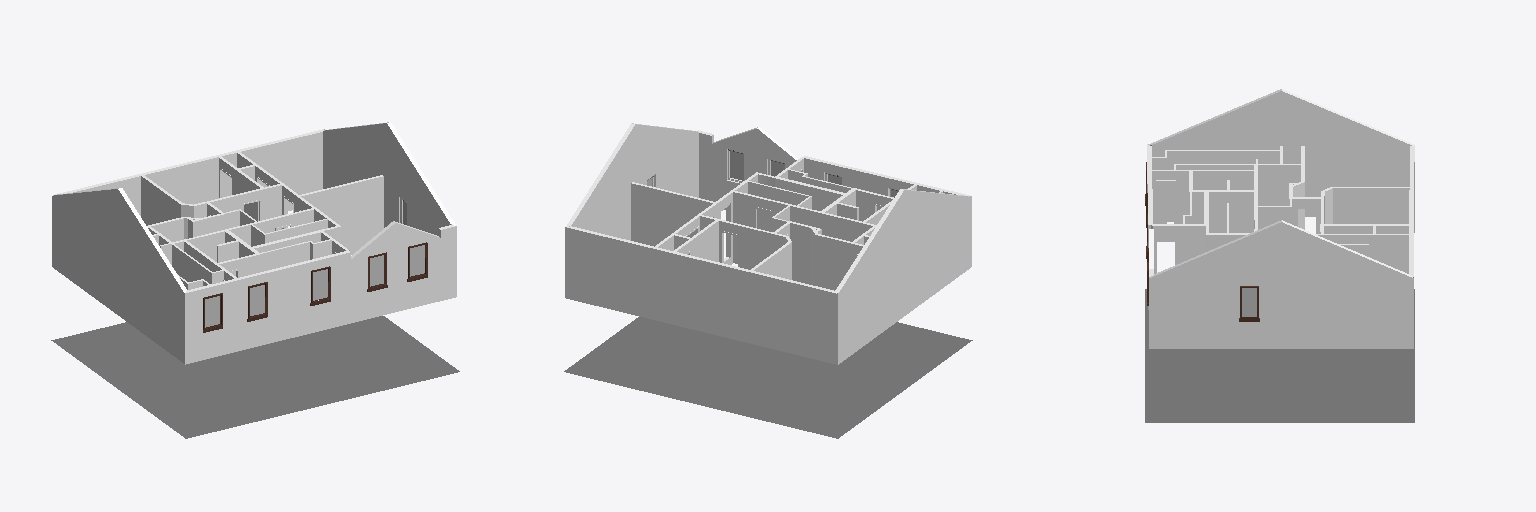
Rendered from Home5189f2.obj.
3 views of the same model, side by side, from view 1: azimuth 30°, elevation 25°; view 2: azimuth 150°, elevation 25°; view 3: azimuth 270°, elevation 25° (orthographic).
Visible parts, largest first — view 1: ground_1, wall_27_160, wall_7_40, wall_1_5, wall_29_172, wall_5_29, wall_9_52, wall_6_35, wall_28_166, wall_4_22, wall_3_16, wall_13_77 (+10 smaller); view 2: ground_1, wall_1_4, wall_7_40, wall_29_172, wall_6_35, wall_5_29, wall_9_53, wall_3_17, wall_12_70, wall_40_239, wall_27_161, wall_15_89 (+13 smaller); view 3: ground_1, wall_5_28, wall_6_34, wall_7_41, wall_29_173, wall_13_76, wall_54_323, wall_22_131, wall_31_185, wall_30_179, wall_44_263, wall_24_143 (+6 smaller).
Boxes of the visible parts, x1=… form: ground_1: x1=51, y1=316, x2=459, y2=438; wall_27_160: x1=239, y1=252, x2=350, y2=350; wall_7_40: x1=52, y1=189, x2=117, y2=314; wall_1_5: x1=73, y1=132, x2=322, y2=215; wall_29_172: x1=130, y1=208, x2=184, y2=363; wall_5_29: x1=323, y1=123, x2=386, y2=227; wall_9_52: x1=301, y1=176, x2=383, y2=254; wall_6_35: x1=387, y1=124, x2=451, y2=235; wall_28_166: x1=185, y1=280, x2=238, y2=364; wall_4_22: x1=351, y1=223, x2=395, y2=322; wall_3_16: x1=396, y1=223, x2=440, y2=311; wall_13_77: x1=141, y1=176, x2=180, y2=225; ground_1: x1=564, y1=317, x2=972, y2=438; wall_1_4: x1=565, y1=227, x2=836, y2=364; wall_7_40: x1=837, y1=190, x2=904, y2=364; wall_29_172: x1=917, y1=191, x2=971, y2=306; wall_6_35: x1=636, y1=124, x2=698, y2=197; wall_5_29: x1=569, y1=124, x2=635, y2=240; wall_9_53: x1=631, y1=183, x2=712, y2=246; wall_3_17: x1=712, y1=129, x2=756, y2=209; wall_12_70: x1=815, y1=235, x2=862, y2=290; wall_40_239: x1=719, y1=221, x2=784, y2=269; wall_27_161: x1=804, y1=158, x2=913, y2=210; wall_15_89: x1=790, y1=223, x2=816, y2=284; ground_1: x1=1145, y1=289, x2=1414, y2=422; wall_5_28: x1=1282, y1=222, x2=1413, y2=348; wall_6_34: x1=1149, y1=222, x2=1281, y2=348; wall_7_41: x1=1282, y1=91, x2=1411, y2=216; wall_29_173: x1=1150, y1=101, x2=1256, y2=156; wall_13_76: x1=1333, y1=188, x2=1409, y2=223; wall_54_323: x1=1167, y1=151, x2=1279, y2=221; wall_22_131: x1=1151, y1=225, x2=1205, y2=273; wall_31_185: x1=1193, y1=171, x2=1253, y2=189; wall_30_179: x1=1152, y1=171, x2=1188, y2=241; wall_44_263: x1=1375, y1=235, x2=1408, y2=273; wall_24_143: x1=1209, y1=192, x2=1253, y2=232.
Bounding box in the file's own units: 1108 × 772 × 940.